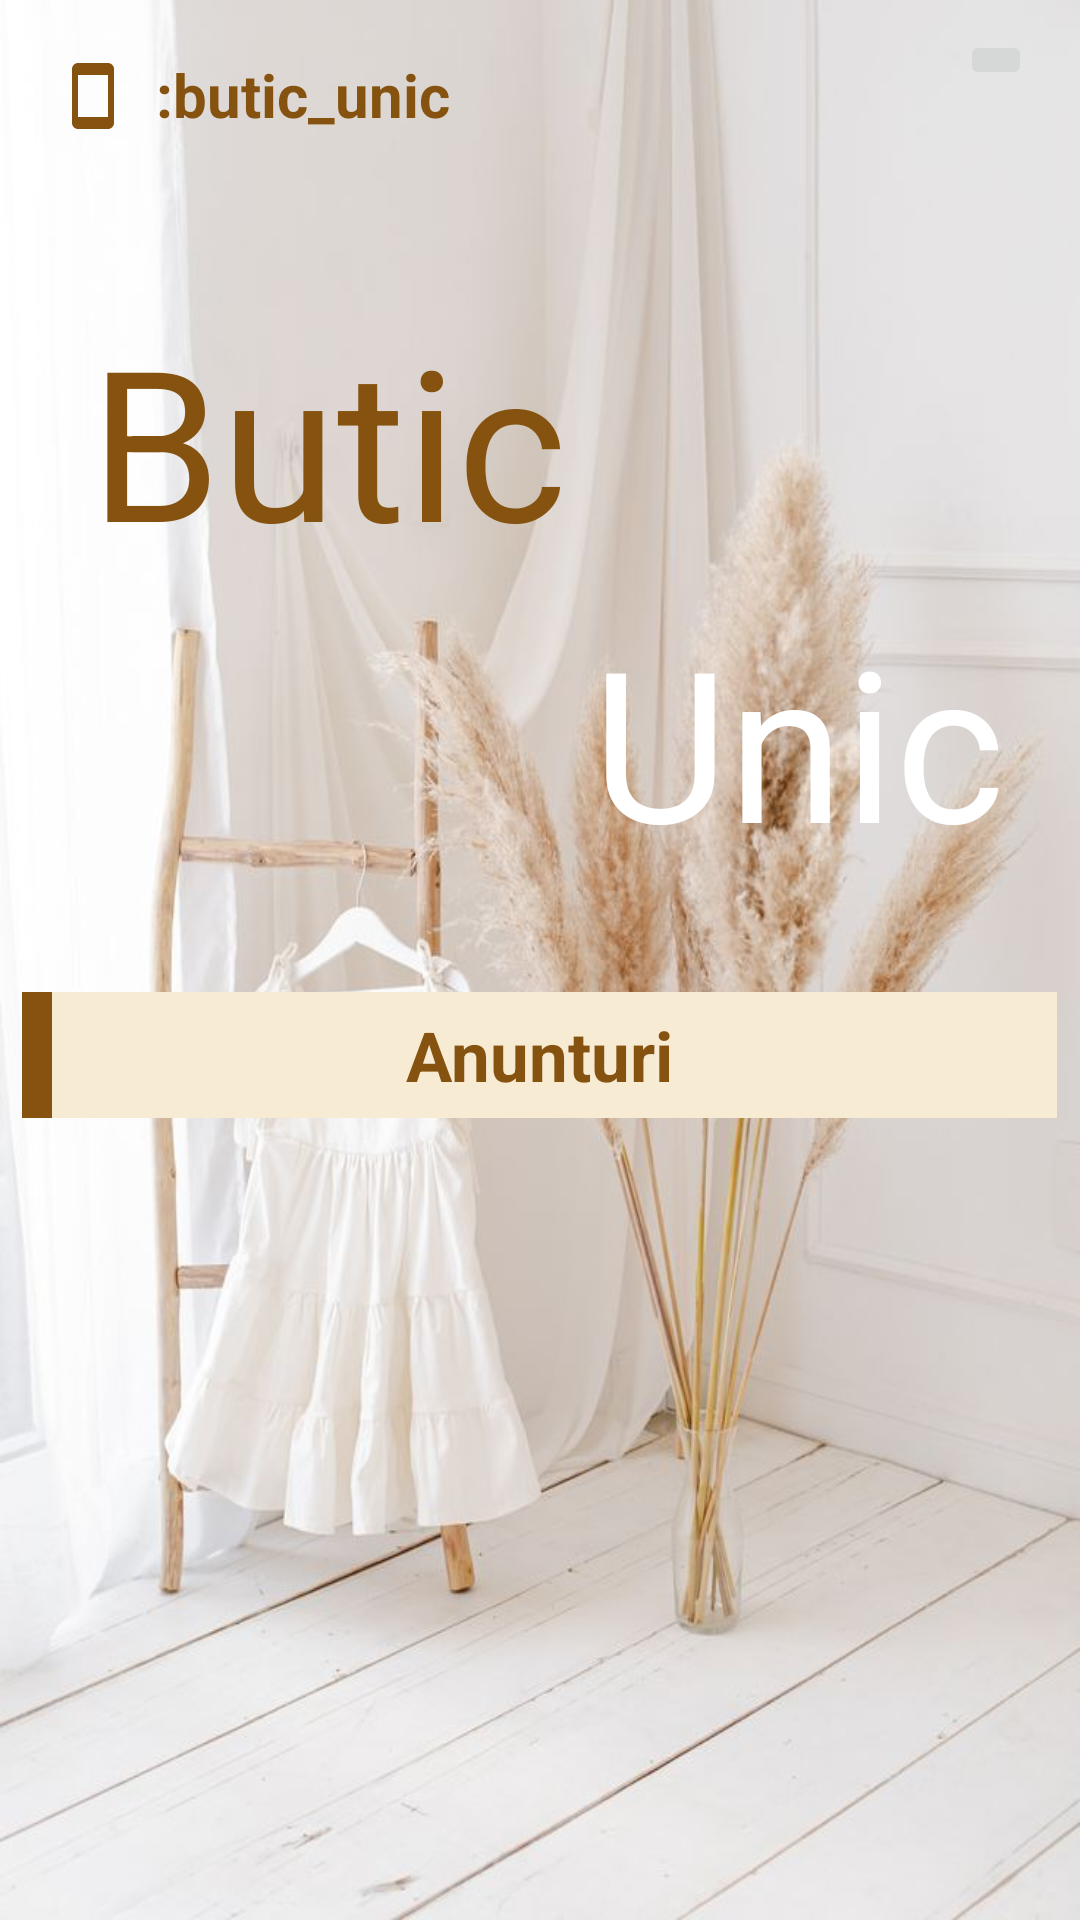

Where icons sit on this 1080 x 1920 app screen, as (x1, y1, x2, y2):
smartphone: (72, 63, 114, 129)
